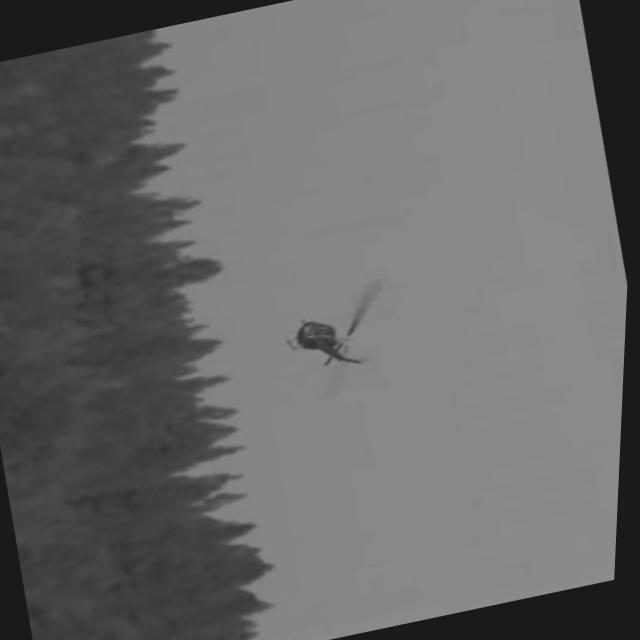helikopter: (264, 259, 415, 398)
